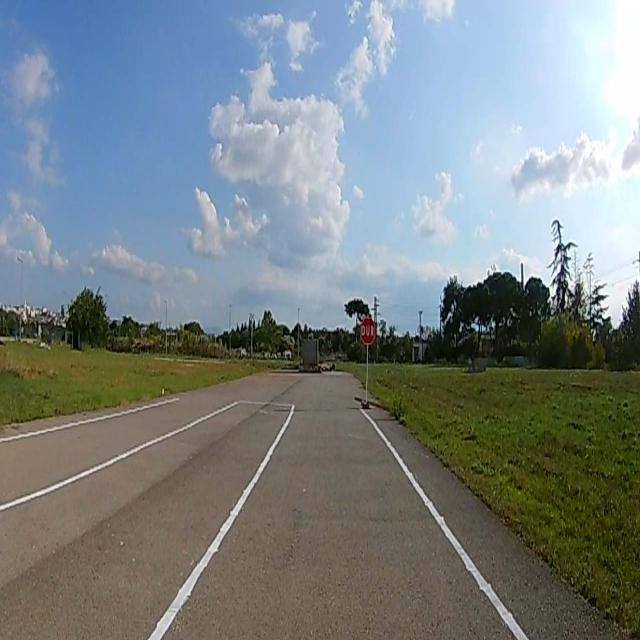dur: (360, 318, 376, 346)
